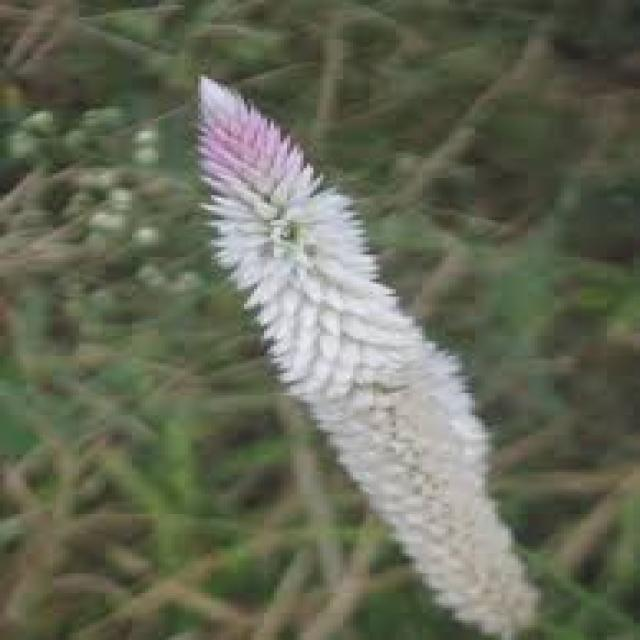Celosia-Argentea: (128, 72, 568, 638)
